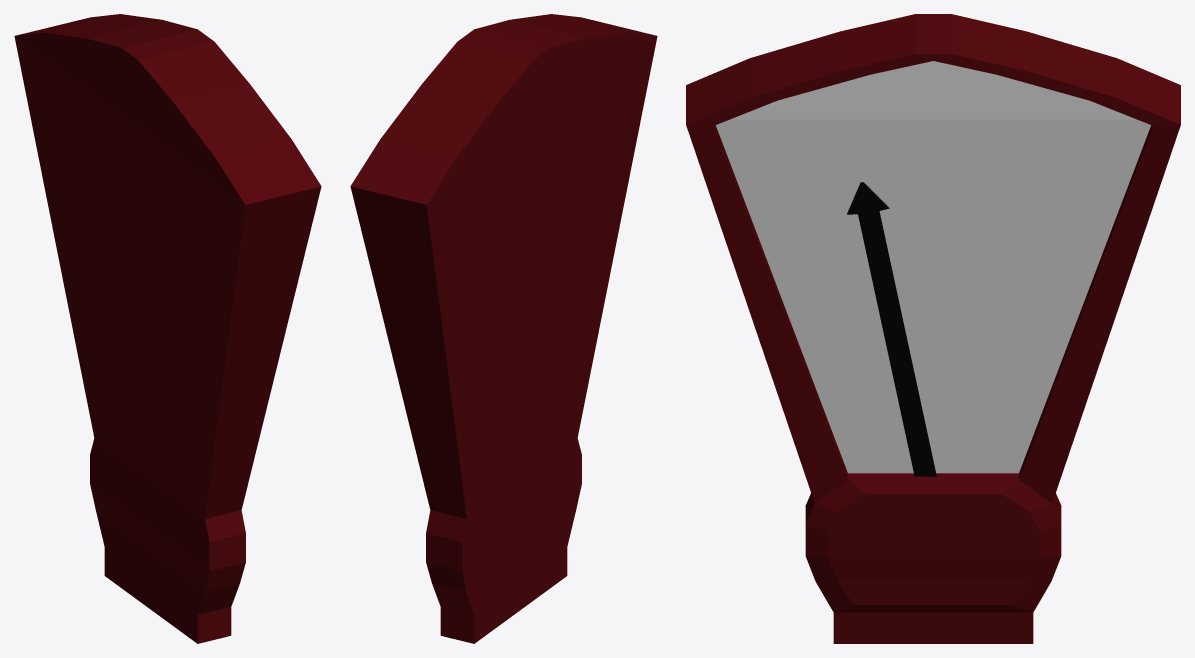
File: ScaleSign.fbx
3 renders of one model, left to right at view 1: azimuth 30°, elevation 25°; view 2: azimuth 150°, elevation 25°; view 3: azimuth 270°, elevation 25°, orthographic. The views are drawn at different scales.
Parts seen in each view (by area): view 1: Cube.021; view 2: Cube.021; view 3: Cube.021.
Boxes of the visible parts, left/top/right/bottom form: Cube.021: left=14, top=14, right=321, bottom=643; Cube.021: left=350, top=14, right=657, bottom=643; Cube.021: left=686, top=14, right=1180, bottom=643.
Bounding box in the file's own units: 16.98 × 89.03 × 119.
